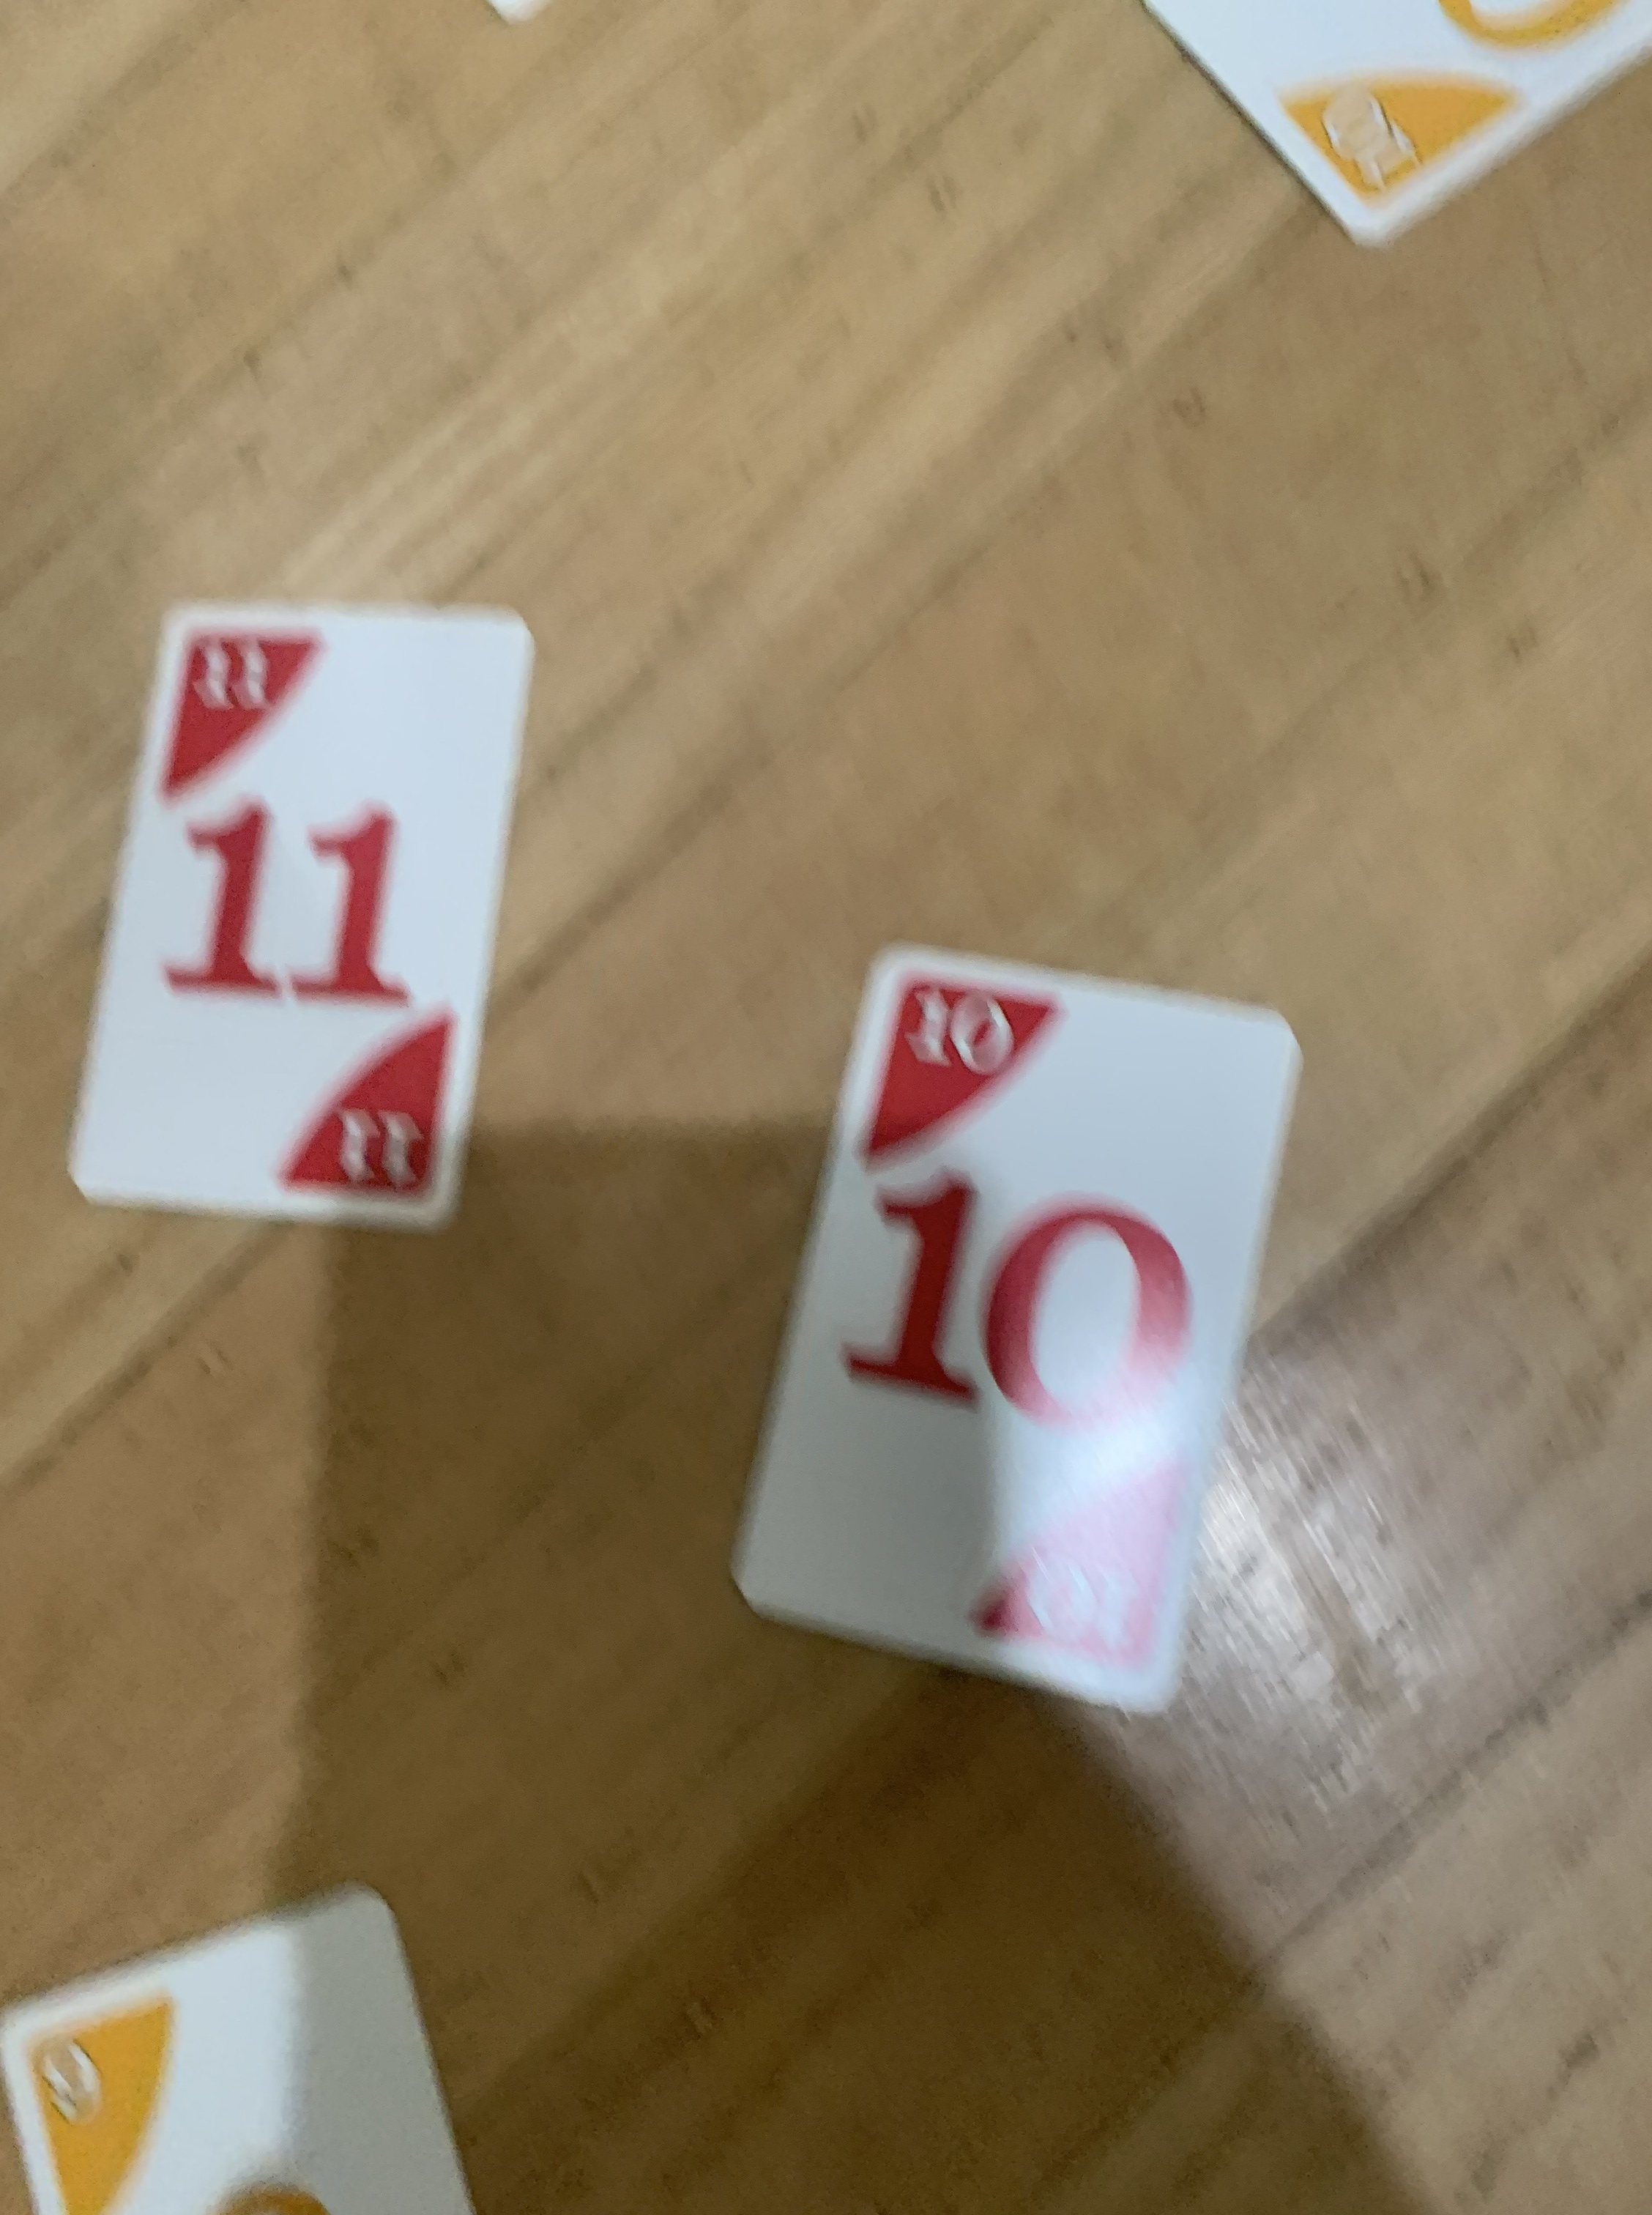eleven: (75, 601, 543, 1226)
ten: (722, 941, 1295, 1717)
